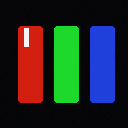4 line_v: (24, 28, 28, 46)
